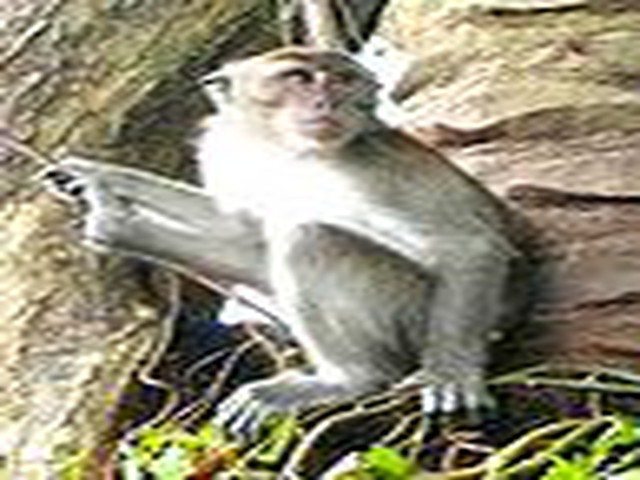Monkey: (85, 40, 542, 436)
